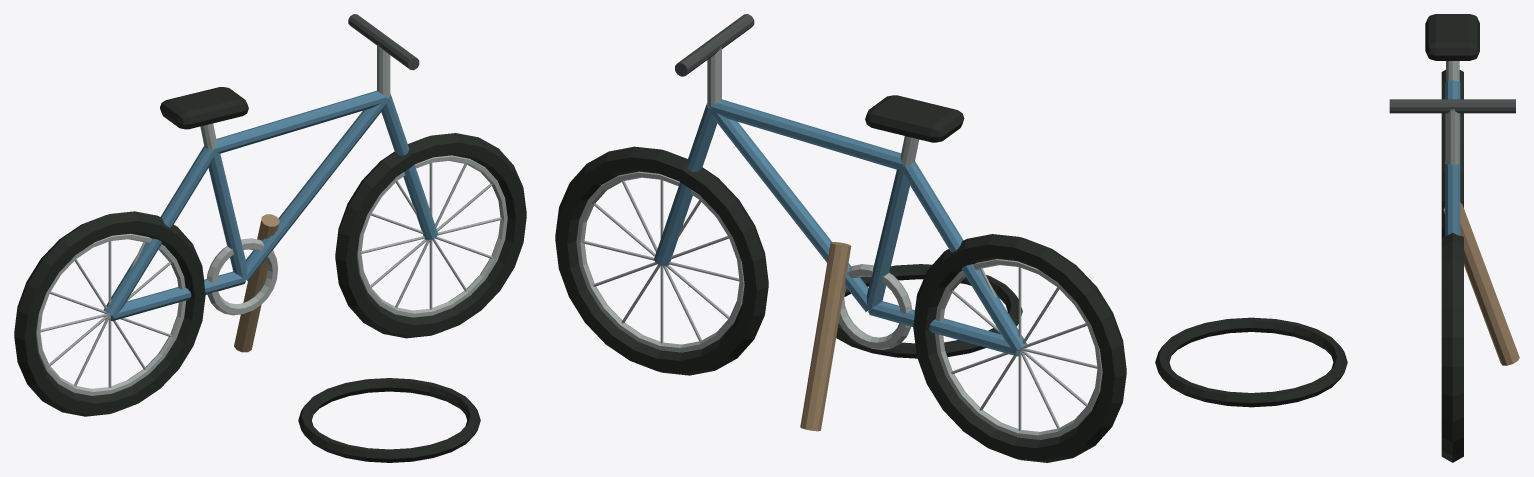
File: SM_SlackerFriendsHouse_Bicycle.fbx
3 views of the same model, side by side, from view 1: azimuth 30°, elevation 25°; view 2: azimuth 150°, elevation 25°; view 3: azimuth 270°, elevation 25° (orthographic). The views are drawn at different scales.
Parts seen in each view (by area): view 1: EXPORT_Bicycle_Tire.001, EXPORT_Bicycle_Tire, EXPORT_Loose_InnerTube, EXPORT_Bicycle_Frame.004, EXPORT_Bicycle_Rim.001, EXPORT_Bicycle_Rim, EXPORT_Bicycle_Frame.003, EXPORT_Bicycle_Frame.001, EXPORT_Bicycle_Saddle, EXPORT_Bicycle_Crank, EXPORT_Bicycle_Frame.005, EXPORT_Bicycle_Frame.002 (+4 smaller); view 2: EXPORT_Bicycle_Tire.001, EXPORT_Bicycle_Tire, EXPORT_Bike_Repair_Stand, EXPORT_Bicycle_Rim.001, EXPORT_Bicycle_Frame.004, EXPORT_Bicycle_Rim, EXPORT_Bicycle_Frame.003, EXPORT_Bicycle_Frame.001, EXPORT_Bicycle_Saddle, EXPORT_Loose_InnerTube, EXPORT_Bicycle_Frame.005, EXPORT_Bicycle_Frame.002 (+4 smaller); view 3: EXPORT_Loose_InnerTube, EXPORT_Bicycle_Tire.001, EXPORT_Bike_Repair_Stand, EXPORT_Bicycle_Saddle, EXPORT_Bicycle_Handlebar, EXPORT_Bicycle_Frame.005, EXPORT_Bicycle_Tire, EXPORT_Bicycle_HandleStem, EXPORT_Bicycle_Frame.003.
Part boxes in pixels (x1,y1,x2,y2): EXPORT_Bicycle_Tire.001: (335, 133, 526, 338); EXPORT_Bicycle_Tire: (14, 211, 205, 416); EXPORT_Loose_InnerTube: (298, 378, 480, 462); EXPORT_Bicycle_Frame.004: (245, 99, 388, 281); EXPORT_Bicycle_Rim.001: (357, 155, 507, 317); EXPORT_Bicycle_Rim: (36, 233, 186, 395); EXPORT_Bicycle_Frame.003: (214, 90, 387, 153); EXPORT_Bicycle_Frame.001: (103, 146, 216, 317); EXPORT_Bicycle_Saddle: (160, 87, 248, 129); EXPORT_Bicycle_Crank: (207, 238, 277, 315); EXPORT_Bicycle_Frame.005: (381, 94, 438, 240); EXPORT_Bicycle_Frame.002: (208, 150, 247, 278); EXPORT_Bicycle_Tire.001: (555, 146, 768, 375); EXPORT_Bicycle_Tire: (913, 234, 1126, 462); EXPORT_Bike_Repair_Stand: (800, 242, 851, 431); EXPORT_Bicycle_Rim.001: (576, 171, 744, 352); EXPORT_Bicycle_Frame.004: (709, 108, 868, 311); EXPORT_Bicycle_Rim: (935, 259, 1102, 439); EXPORT_Bicycle_Frame.003: (710, 99, 903, 169); EXPORT_Bicycle_Frame.001: (902, 161, 1026, 352); EXPORT_Bicycle_Saddle: (865, 95, 964, 142); EXPORT_Loose_InnerTube: (836, 264, 1022, 358); EXPORT_Bicycle_Frame.005: (654, 103, 717, 266); EXPORT_Bicycle_Frame.002: (866, 166, 909, 310); EXPORT_Loose_InnerTube: (1155, 317, 1347, 407); EXPORT_Bicycle_Tire.001: (1441, 233, 1463, 462); EXPORT_Bike_Repair_Stand: (1443, 202, 1519, 365); EXPORT_Bicycle_Saddle: (1425, 14, 1479, 60); EXPORT_Bicycle_Handlebar: (1389, 99, 1515, 113); EXPORT_Bicycle_Frame.005: (1445, 163, 1460, 236); EXPORT_Bicycle_Tire: (1441, 70, 1463, 236); EXPORT_Bicycle_HandleStem: (1445, 109, 1459, 164); EXPORT_Bicycle_Frame.003: (1445, 80, 1460, 163).
Size of the model in its own units: 217 by 127 by 126.
